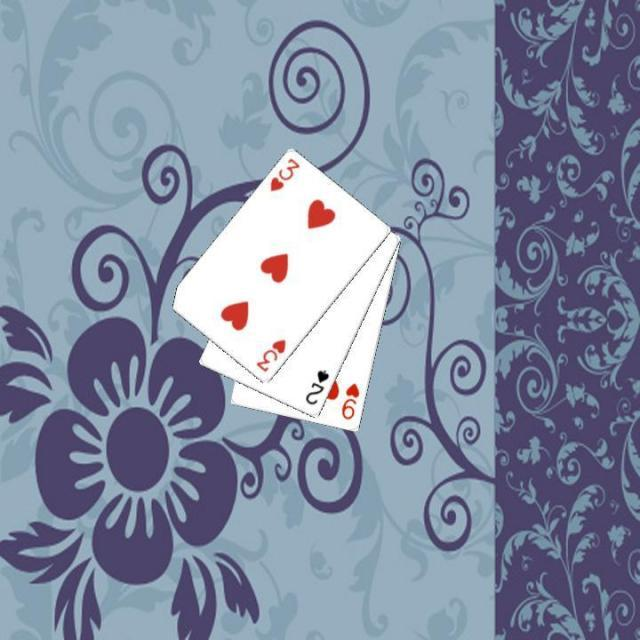2S: (301, 366, 331, 407)
3H: (266, 155, 302, 194), (252, 336, 288, 374)
9H: (338, 380, 362, 422)
